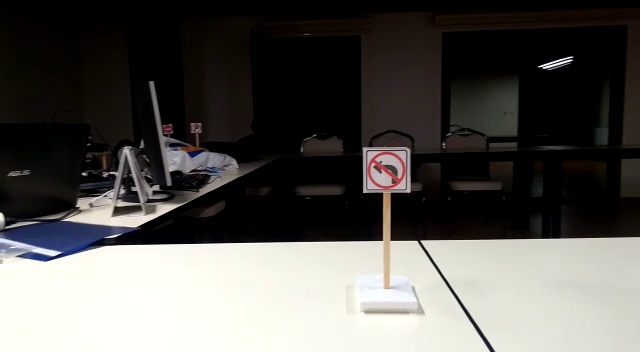sola_donulmez: (363, 150, 412, 189)
